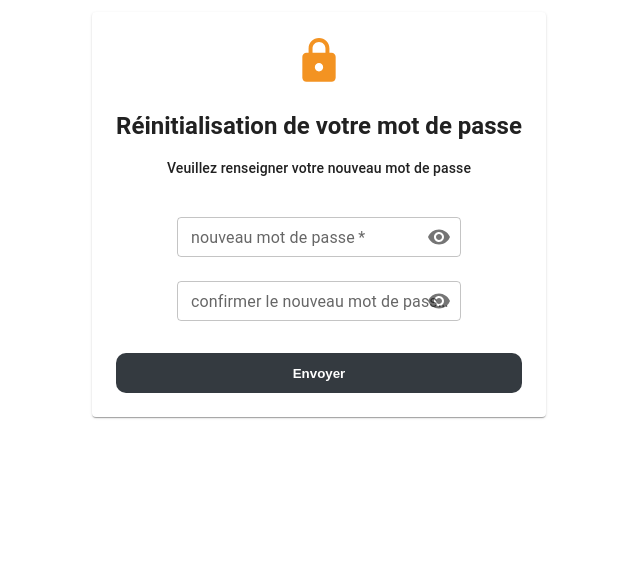
Test case: ResetPassword Component › enables the submit button when passwords are valid and match
In the password field labelled "nouveau mot de passe *": [294, 237] box x1=177 y1=217 x2=411 y2=257, type "NewPassword123!"
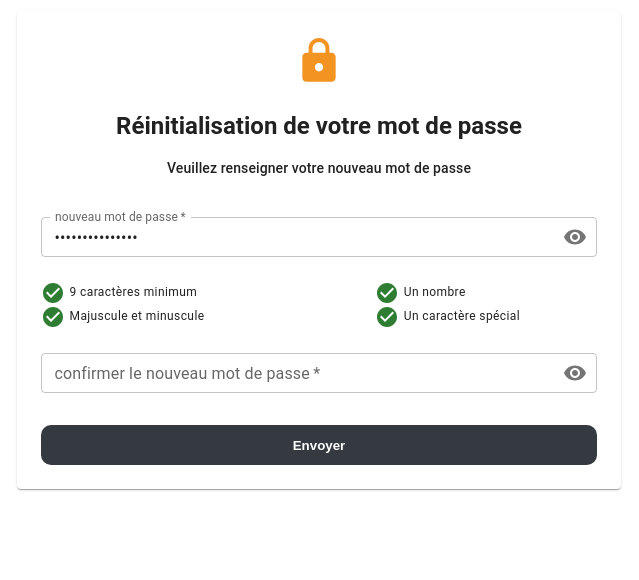
In the password field labelled "confirmer le nouveau mot de passe *": [294, 373] box x1=40 y1=353 x2=548 y2=393, type "NewPassword123!"
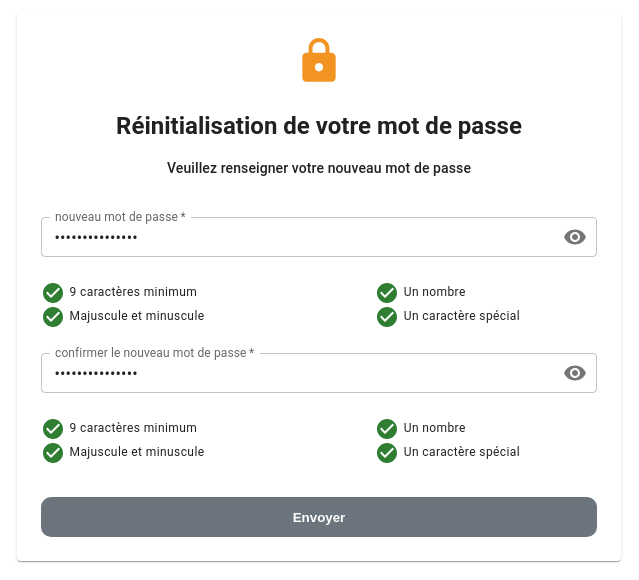
Now the button "Envoyer" is enabled, box x1=40 y1=497 x2=598 y2=537
